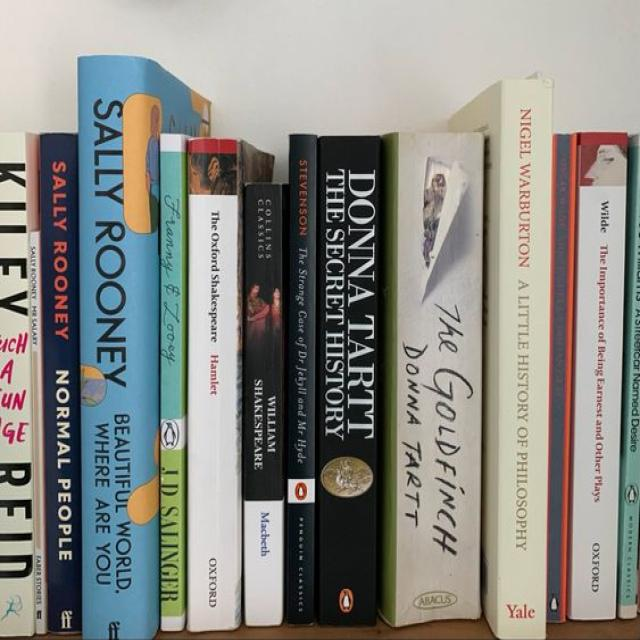book: (449, 77, 552, 639), (380, 133, 483, 626), (76, 57, 157, 638), (317, 136, 380, 623), (186, 139, 243, 630), (571, 133, 626, 618), (38, 135, 80, 631), (243, 185, 284, 624), (0, 133, 35, 635), (284, 135, 315, 622), (546, 133, 577, 620), (159, 140, 186, 631)
